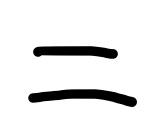eqv: (22, 42, 139, 110)
